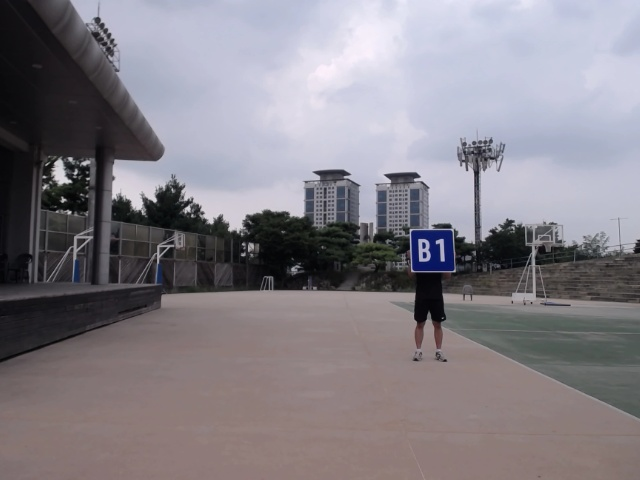delivery_b1: (409, 229, 456, 272)
